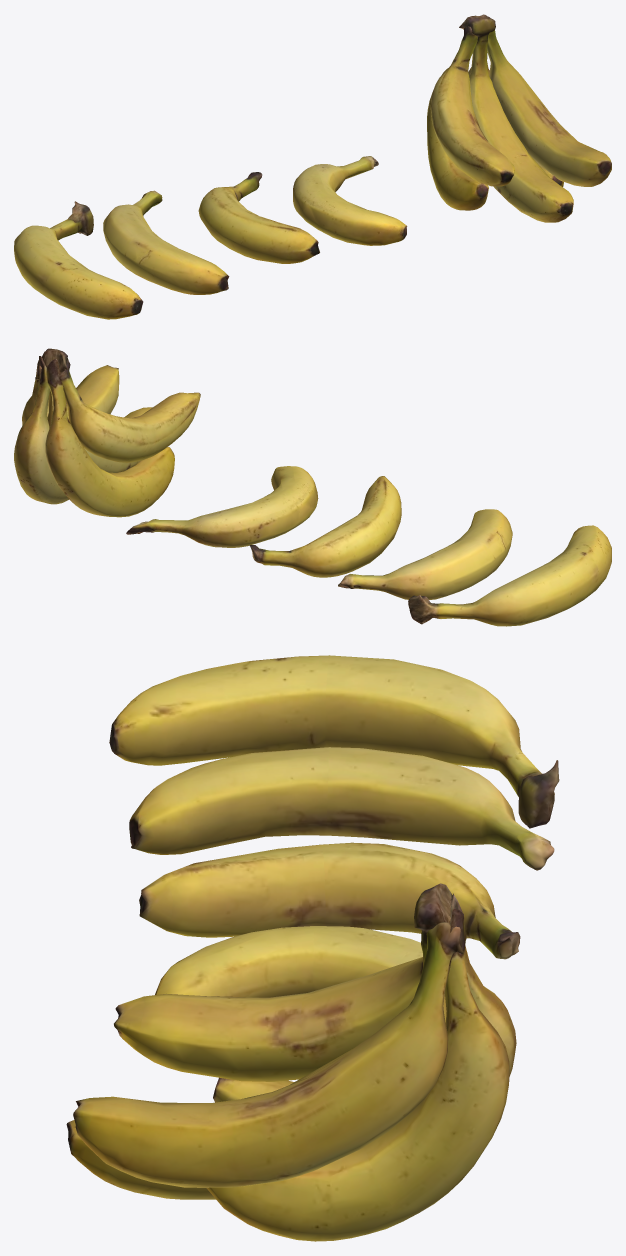
Rendered from bananas.glb.
3 views of the same model, one above another, from view 1: azimuth 30°, elevation 25°; view 2: azimuth 150°, elevation 25°; view 3: azimuth 270°, elevation 25° (orthographic). The views are drawn at different scales.
Parts seen in each view (by area): view 1: bananas_bunch, bananas_d, bananas_c, bananas_a, bananas_b; view 2: bananas_bunch, bananas_d, bananas_c, bananas_a, bananas_b; view 3: bananas_bunch, bananas_d, bananas_c, bananas_b, bananas_a.
Part boxes in pixels (x1,y1,x2,y2): bananas_bunch: [427, 14, 611, 222]; bananas_d: [14, 201, 143, 319]; bananas_c: [103, 190, 229, 294]; bananas_a: [293, 156, 407, 245]; bananas_b: [198, 172, 319, 263]; bananas_bunch: [14, 348, 200, 517]; bananas_d: [408, 525, 611, 626]; bananas_c: [338, 509, 512, 599]; bananas_a: [126, 466, 318, 547]; bananas_b: [249, 476, 401, 577]; bananas_bunch: [66, 883, 516, 1241]; bananas_d: [109, 655, 559, 828]; bananas_c: [129, 747, 554, 870]; bananas_b: [139, 842, 520, 959]; bananas_a: [155, 926, 422, 997].
Size of the model in its own units: 0.6 by 0.1787 by 0.244.
Materials: 1 (1 with a texture image).
